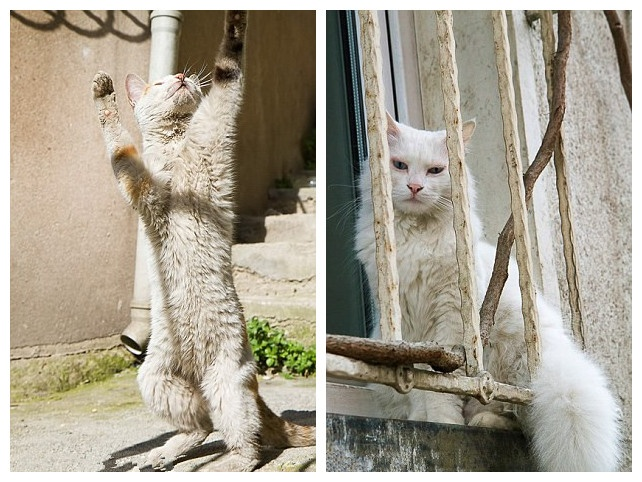cat: (353, 110, 622, 472), (90, 56, 316, 472)
